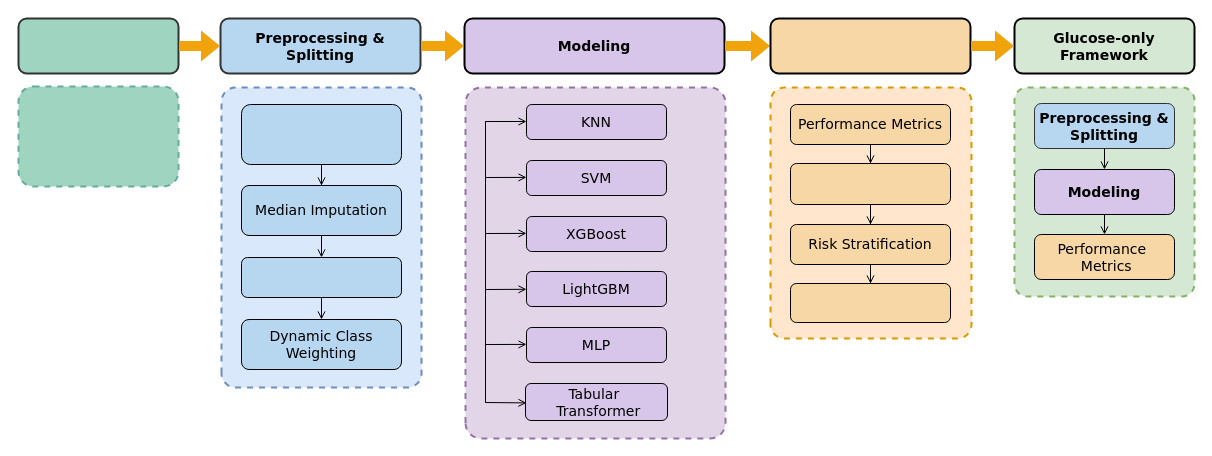
Some shapes in this 1212 by 456 pixel diagram are drawn without their labels. The shapes that lost their labels are listed below. From the top down, each one's centre as x and y in pixels, then its label:
point (98, 45): Data Collection
point (870, 45): Evaluation & Analysis
point (98, 136): 1,065 Patient Records 9 Clinical Features including Glucose
point (321, 134): 5-Fold Stratified Cross-Validation
point (870, 183): SHAP Feature Importance
point (321, 277): Z-Score Scaling
point (870, 302): Fairness Analysis
